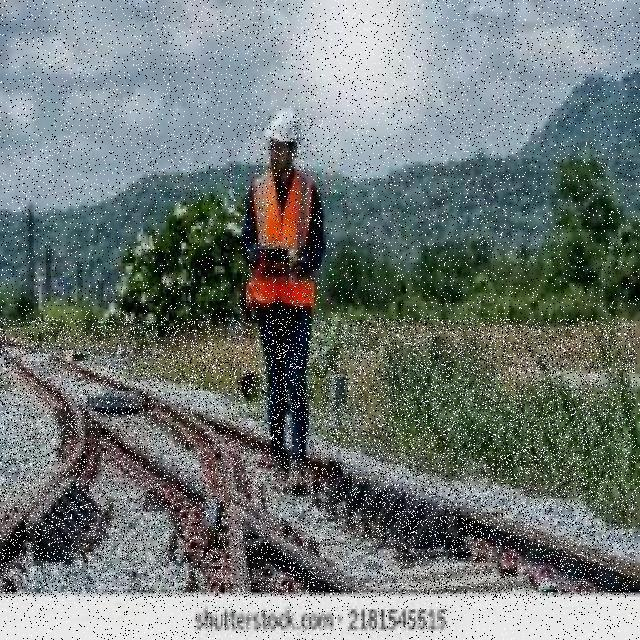rail: (1, 320, 636, 599)
